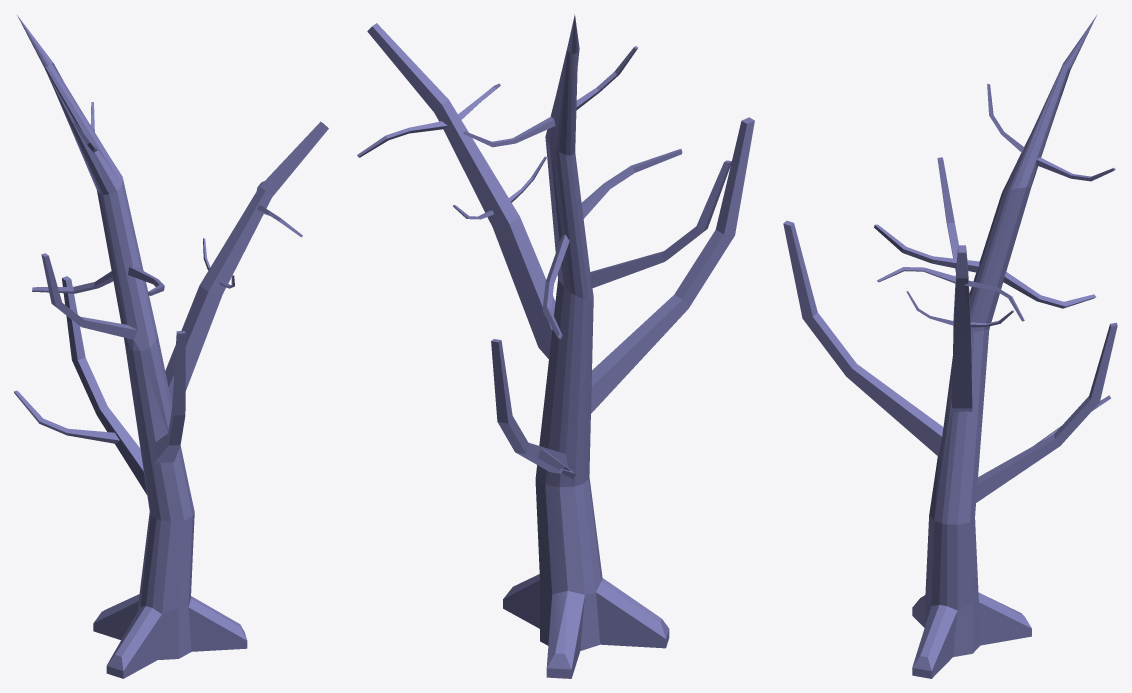
Rendered from SM_Tree_Scary_02.fbx.
3 renders of one model, left to right at view 1: azimuth 30°, elevation 25°; view 2: azimuth 150°, elevation 25°; view 3: azimuth 270°, elevation 25°, orthographic. The views are drawn at different scales.
Visible parts, largest first — view 1: _11_tree_002_Cylinder_078; view 2: _11_tree_002_Cylinder_078; view 3: _11_tree_002_Cylinder_078.
Part boxes in pixels (<box>): _11_tree_002_Cylinder_078: <box>14,15,328,678</box>; _11_tree_002_Cylinder_078: <box>357,14,754,678</box>; _11_tree_002_Cylinder_078: <box>783,14,1117,678</box>.
Bounding box in the file's own units: 355 × 689 × 351.
